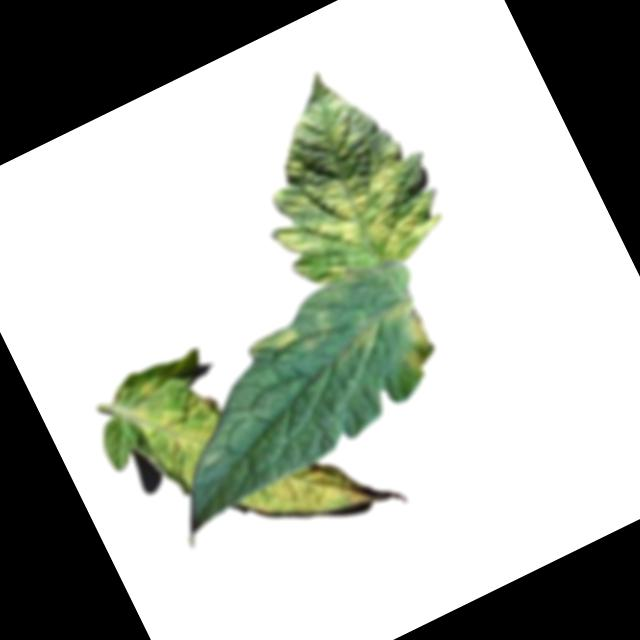Leaf_Mold: (257, 135, 452, 307), (239, 443, 379, 560), (126, 358, 244, 495), (340, 291, 447, 400), (249, 303, 340, 377)
